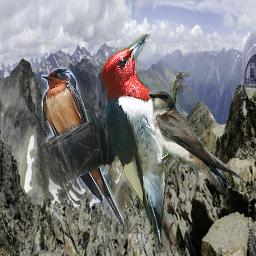Swallow: (41, 67, 125, 228), (148, 90, 242, 193)
Woodpecker: (100, 34, 192, 253)
